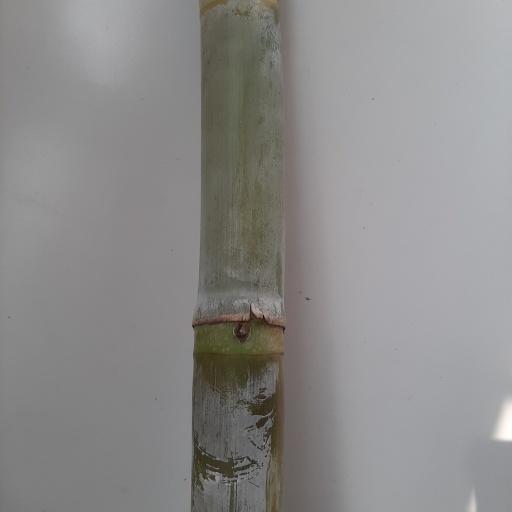Bud: (233, 320, 251, 344)
